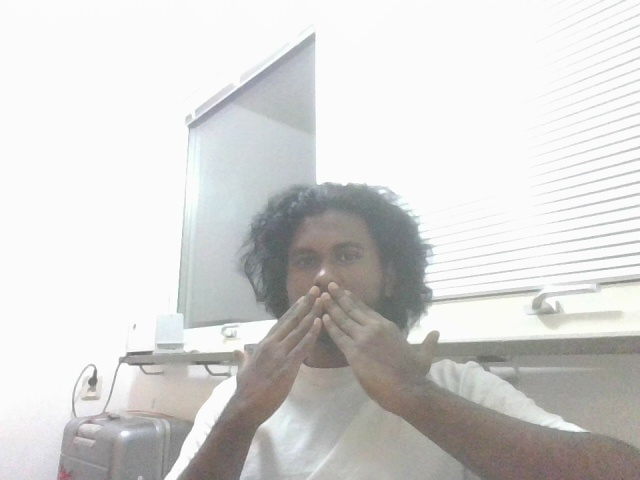Thanks: (188, 279, 501, 414)
